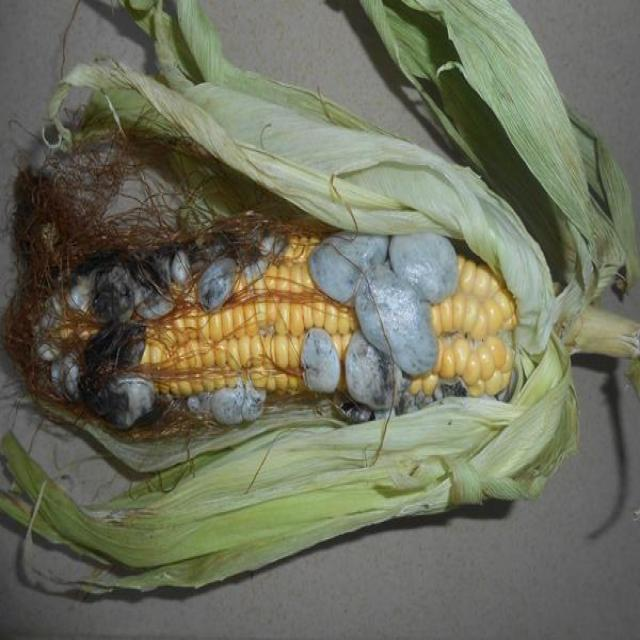Leaf_Scald: (0, 61, 636, 626)
